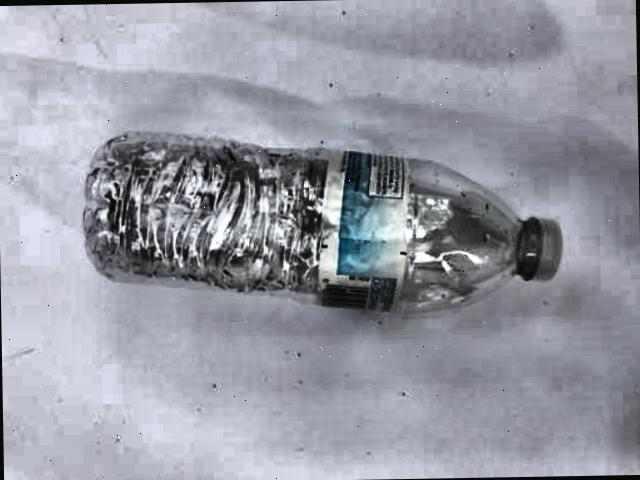Bottles: (78, 87, 573, 347)
